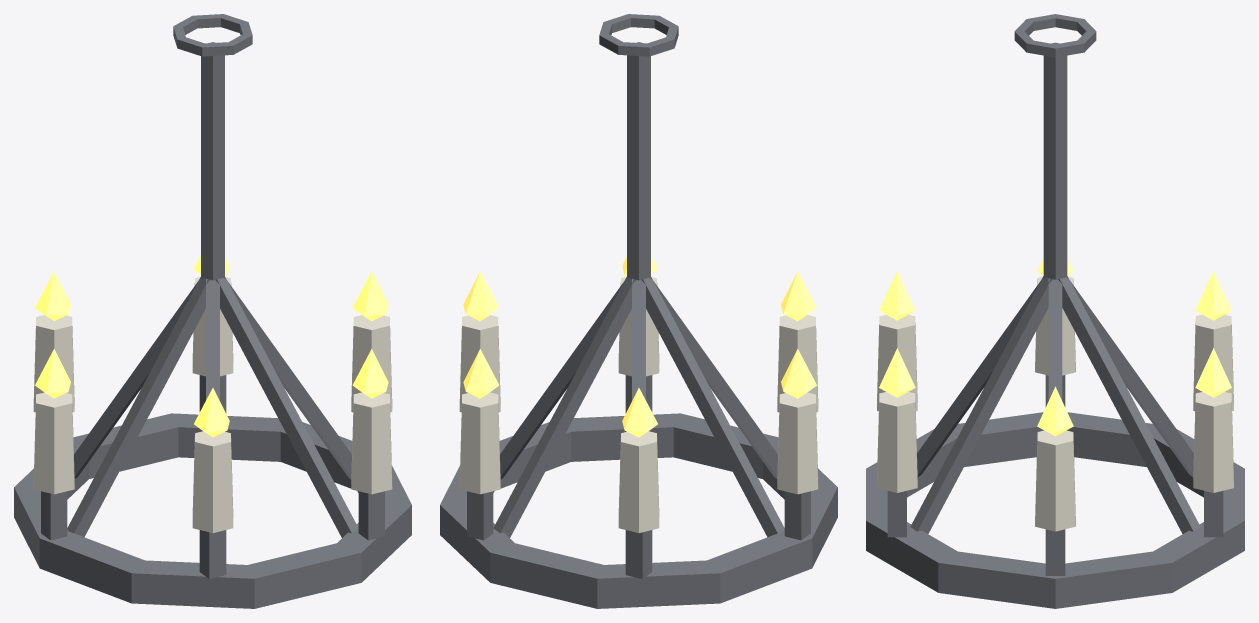
The model's file is chandelier.glb.
3 renders of one model, left to right at view 1: azimuth 30°, elevation 25°; view 2: azimuth 150°, elevation 25°; view 3: azimuth 270°, elevation 25°, orthographic.
Parts seen in each view (by area): view 1: chandelier; view 2: chandelier; view 3: chandelier.
Boxes of the visible parts, x1,y1,x2,y2 form: chandelier: (14,14,411,608); chandelier: (440,14,837,608); chandelier: (866,14,1244,608).
Bounding box in the file's own units: 1.49 × 1.97 × 1.37.
